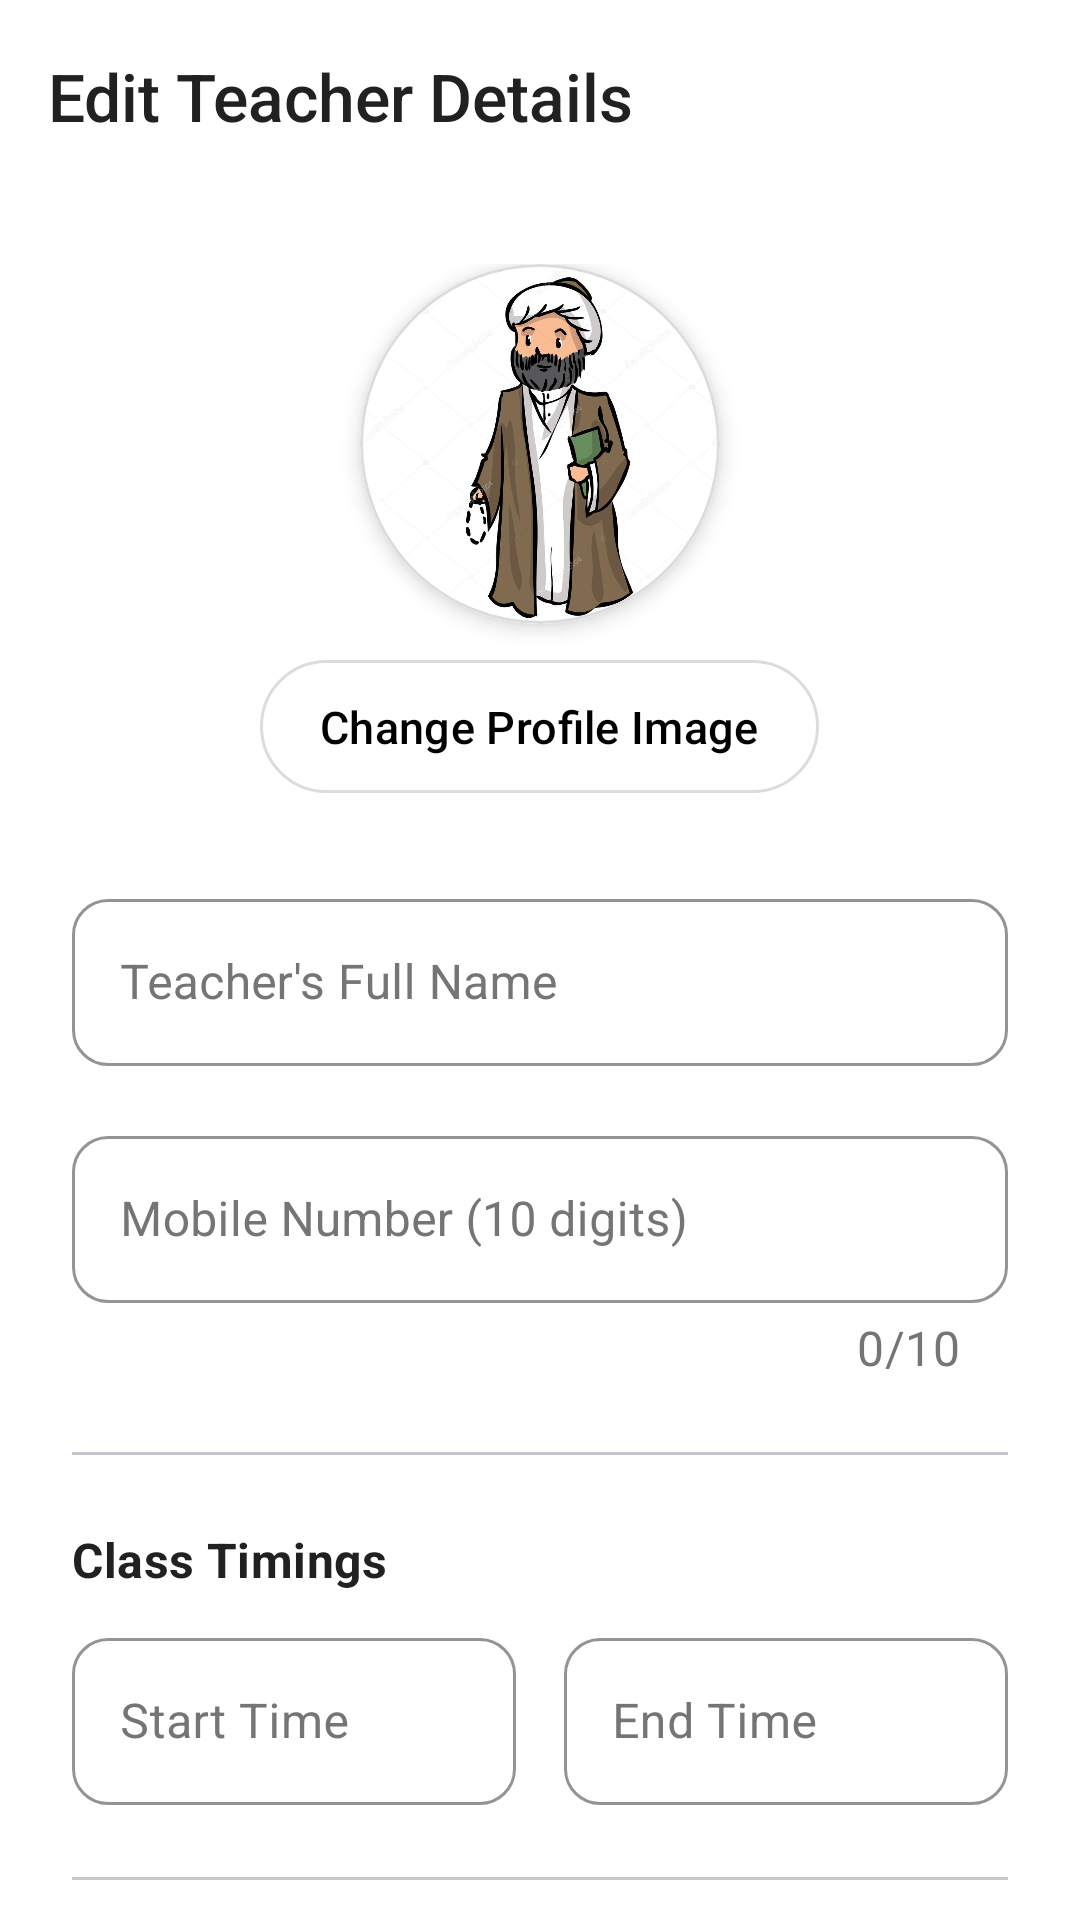

Where icons sit on this 1080px×1920px app screen, as (x1, y1, x2, y2):
Profile Image of Teacher: (360, 264, 720, 624)
